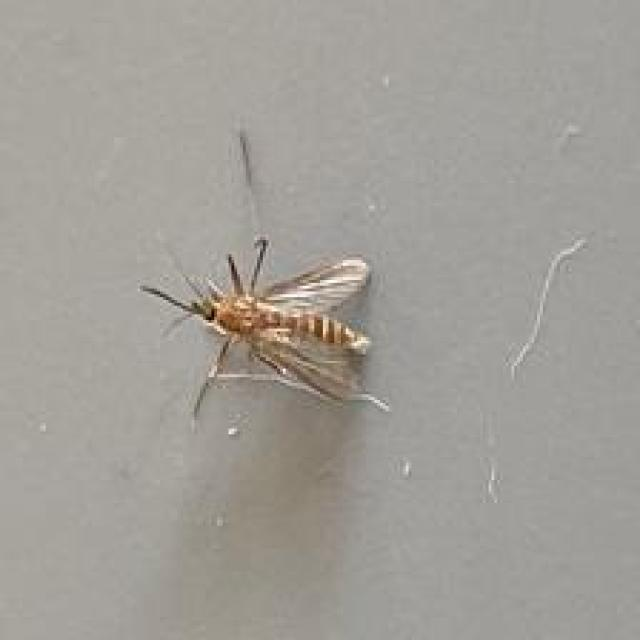Culex: (137, 234, 392, 423)
